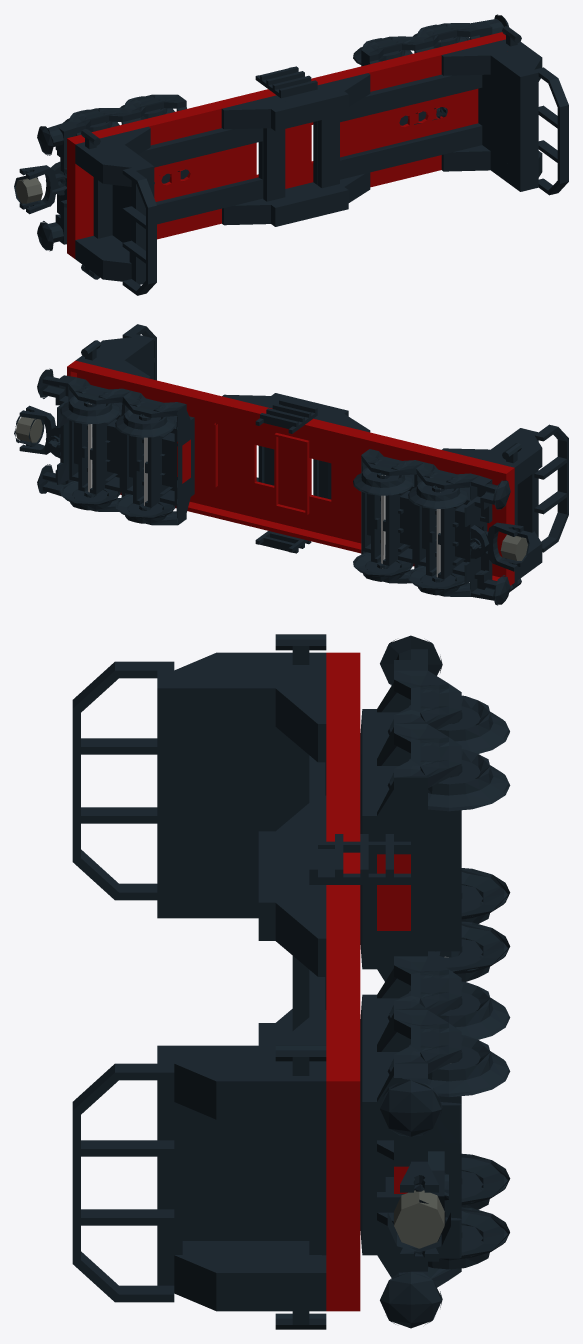
The model's file is wagon.glb.
3 renders of one model, top to bottom at view 1: azimuth 30°, elevation 25°; view 2: azimuth 150°, elevation 25°; view 3: azimuth 270°, elevation 25°, orthographic. The views are drawn at different scales.
Size of the model in its own units: 218 by 59.19 by 82.8.
